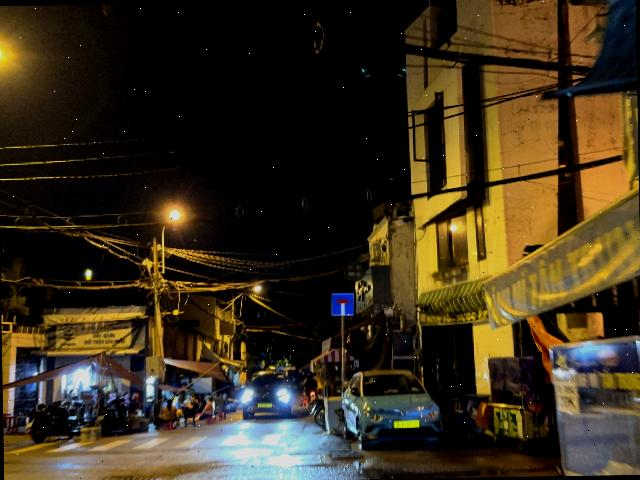duong-cut: (332, 292, 354, 316)
